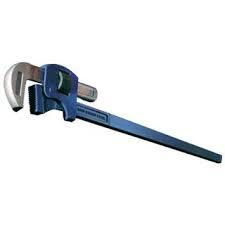wrench: (1, 59, 224, 164)
